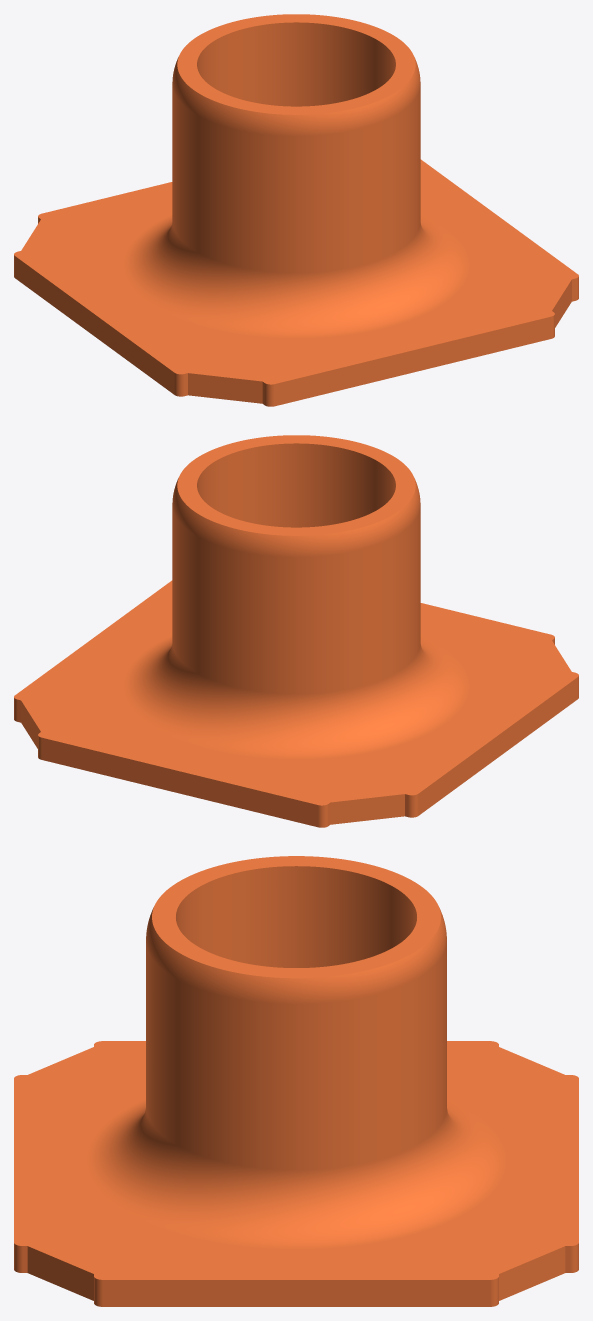
The model's file is V5_Objective Mount.obj.
The picture shows the model from 3 angles, top to bottom: view 1: azimuth 30°, elevation 25°; view 2: azimuth 150°, elevation 25°; view 3: azimuth 270°, elevation 25°; orthographic projection. The views are drawn at different scales.
Parts seen in each view (by area): view 1: Solid1:33; view 2: Solid1:33; view 3: Solid1:33.
Boxes of the visible parts, bbox=[...] form: Solid1:33: bbox=[14, 14, 578, 406]; Solid1:33: bbox=[14, 435, 578, 827]; Solid1:33: bbox=[14, 856, 578, 1306].
Size of the model in its own units: 47.34 by 25 by 47.34.
